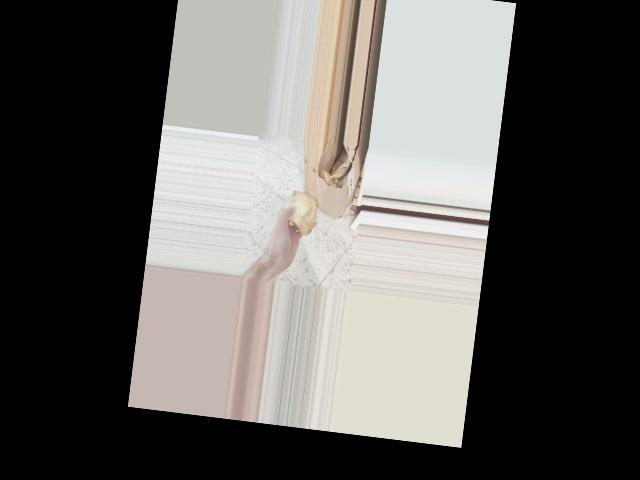onion: (280, 187, 321, 240)
